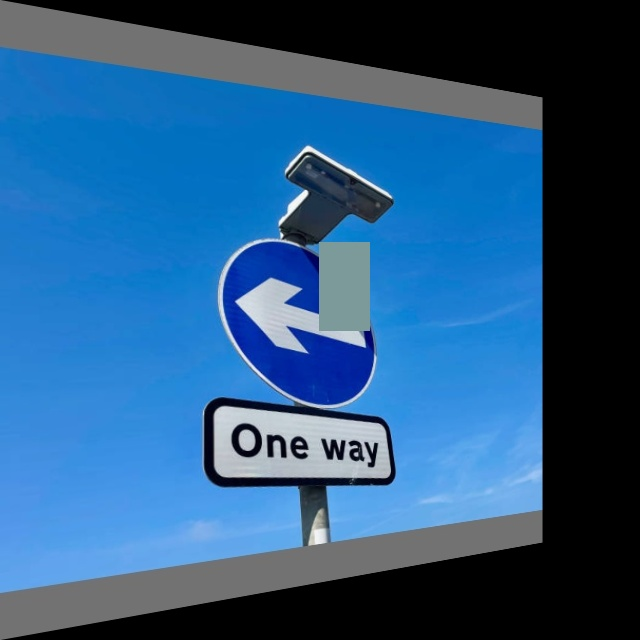Compulsory_Turn_Left: (220, 234, 381, 414)
